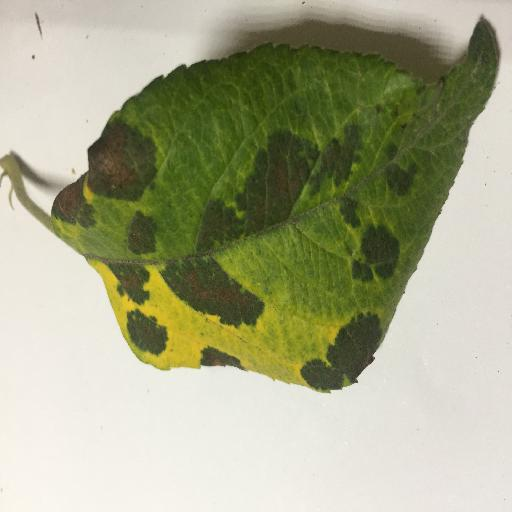Brown_Spot: (160, 266, 256, 316), (313, 324, 378, 389), (254, 143, 293, 223), (95, 141, 150, 194), (191, 203, 244, 241), (356, 226, 399, 272), (125, 316, 168, 351), (339, 202, 378, 238), (104, 262, 145, 296), (123, 211, 155, 251), (318, 145, 356, 178), (376, 161, 419, 190), (50, 199, 91, 225), (204, 354, 241, 365)
